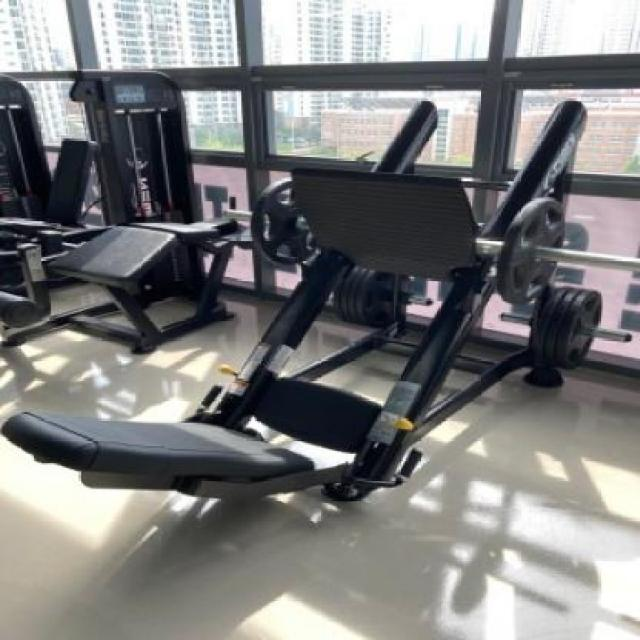leg press: (0, 92, 628, 534)
